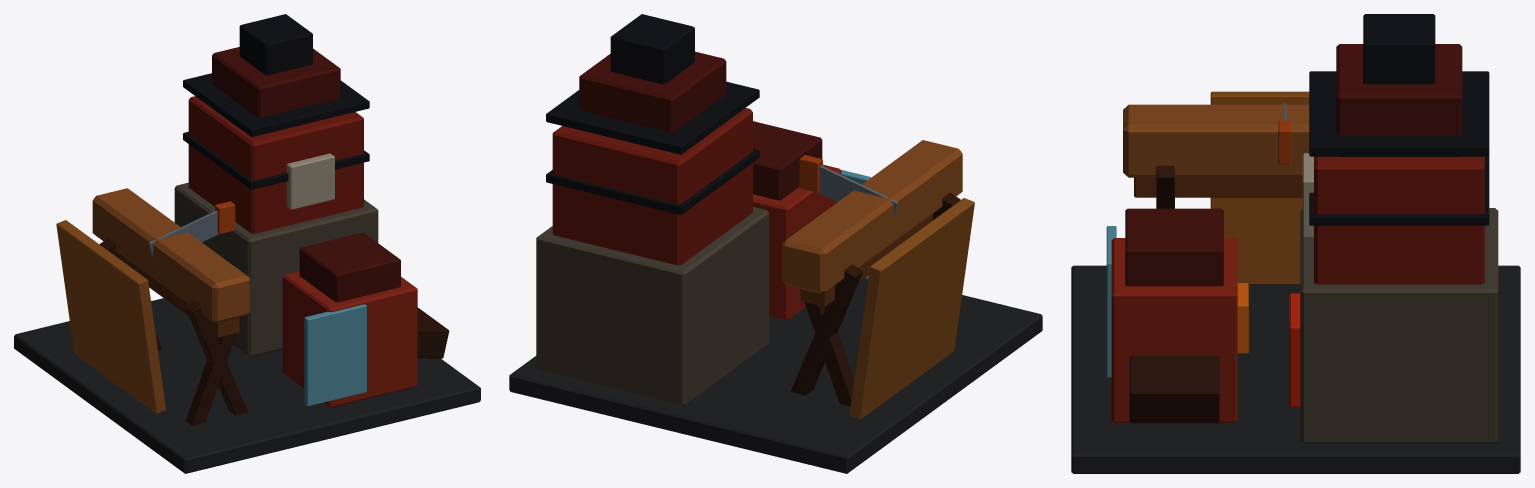
The model's file is mod_station_sawhorse_kiln_bundle.glb.
3 renders of one model, left to right at view 1: azimuth 30°, elevation 25°; view 2: azimuth 150°, elevation 25°; view 3: azimuth 270°, elevation 25°, orthographic. The views are drawn at different scales.
Parts seen in each view (by area): view 1: Mod_Station_Sawhorse_Kiln_Bundle; view 2: Mod_Station_Sawhorse_Kiln_Bundle; view 3: Mod_Station_Sawhorse_Kiln_Bundle.
Part boxes in pixels (x1=…): Mod_Station_Sawhorse_Kiln_Bundle: x1=14, y1=14, x2=480, y2=473; Mod_Station_Sawhorse_Kiln_Bundle: x1=509, y1=14, x2=1042, y2=473; Mod_Station_Sawhorse_Kiln_Bundle: x1=1071, y1=14, x2=1520, y2=473.
Bounding box in the file's own units: 2 × 1.94 × 2.
